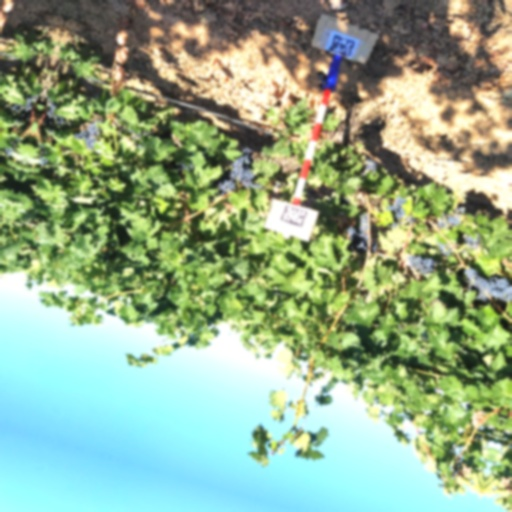QR: (280, 203, 309, 228), (328, 34, 357, 58)
